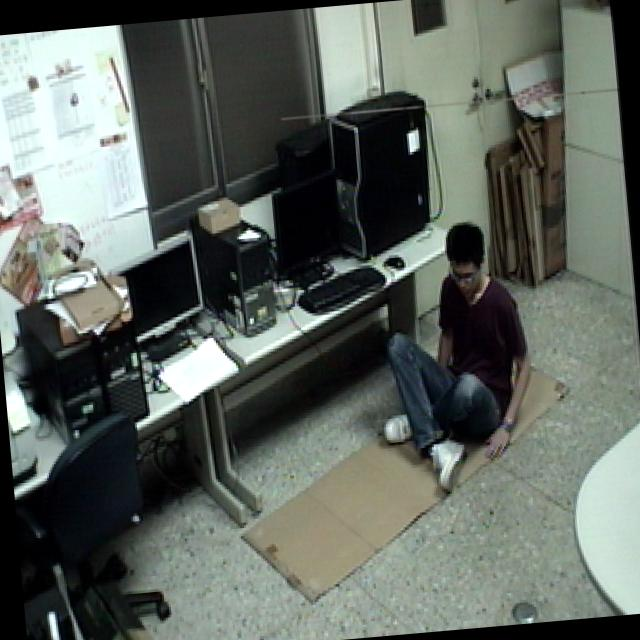sit: (360, 214, 553, 504)
